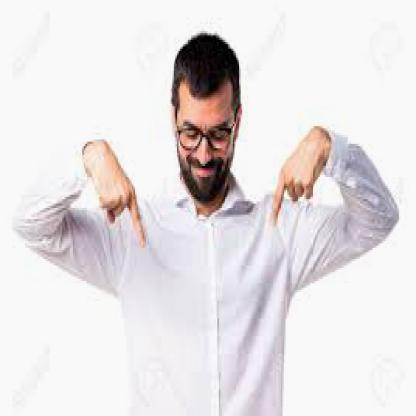Down: (87, 135, 165, 255), (272, 117, 332, 235)
